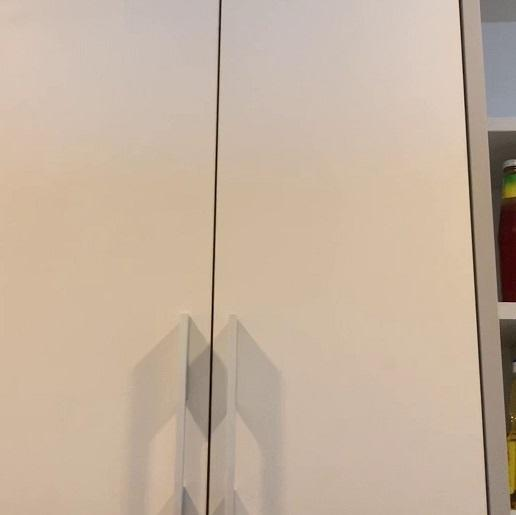cabinet_door: (219, 2, 471, 515), (3, 0, 212, 515)
handle: (168, 310, 194, 515), (220, 311, 245, 515)
